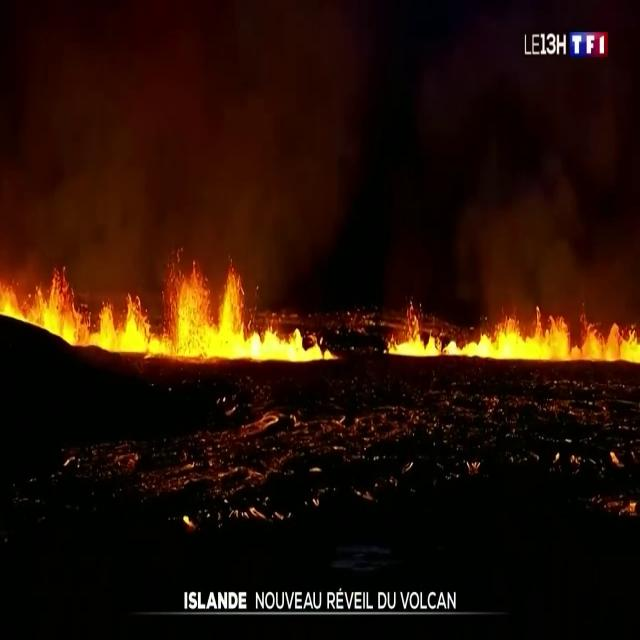Fire: (0, 240, 328, 358), (385, 280, 640, 367)
Smoke: (0, 0, 640, 285)
